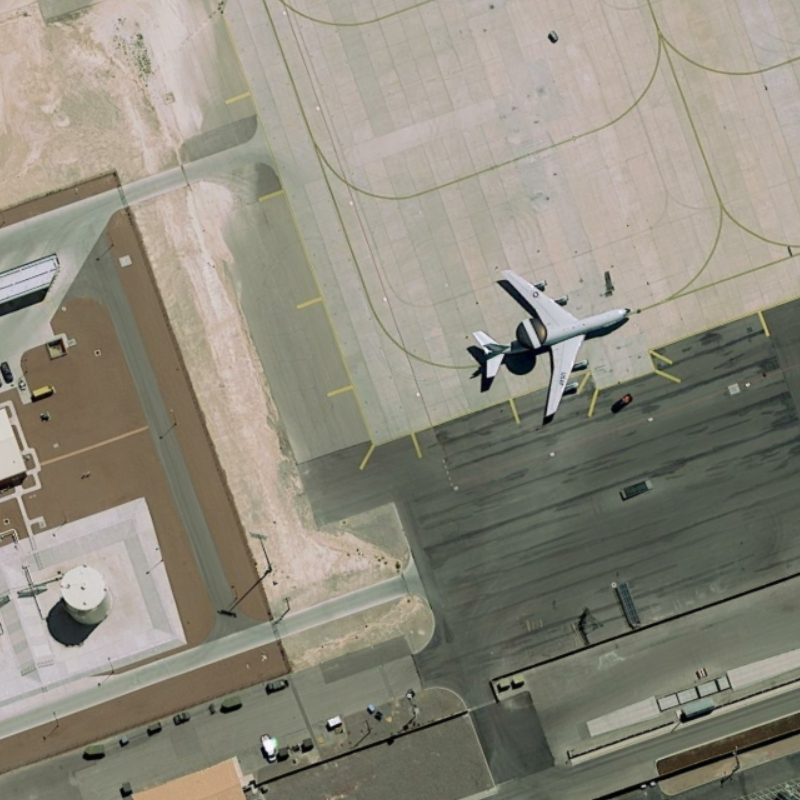A7: (460, 262, 637, 429)
